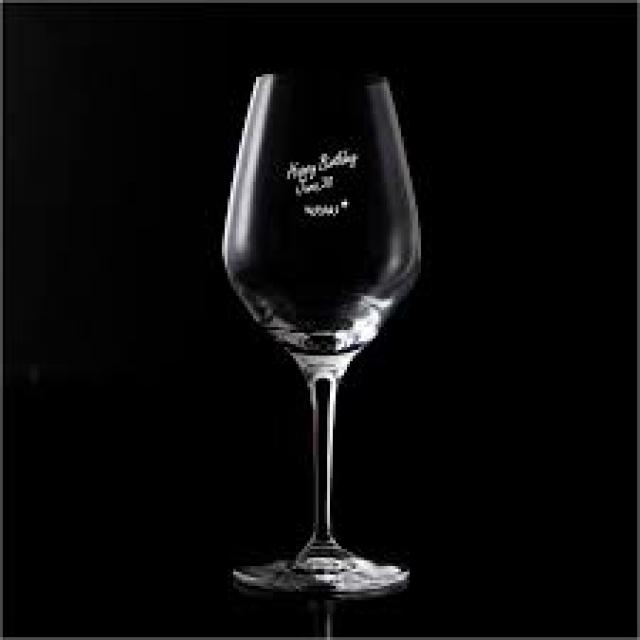glass: (216, 71, 418, 592)
